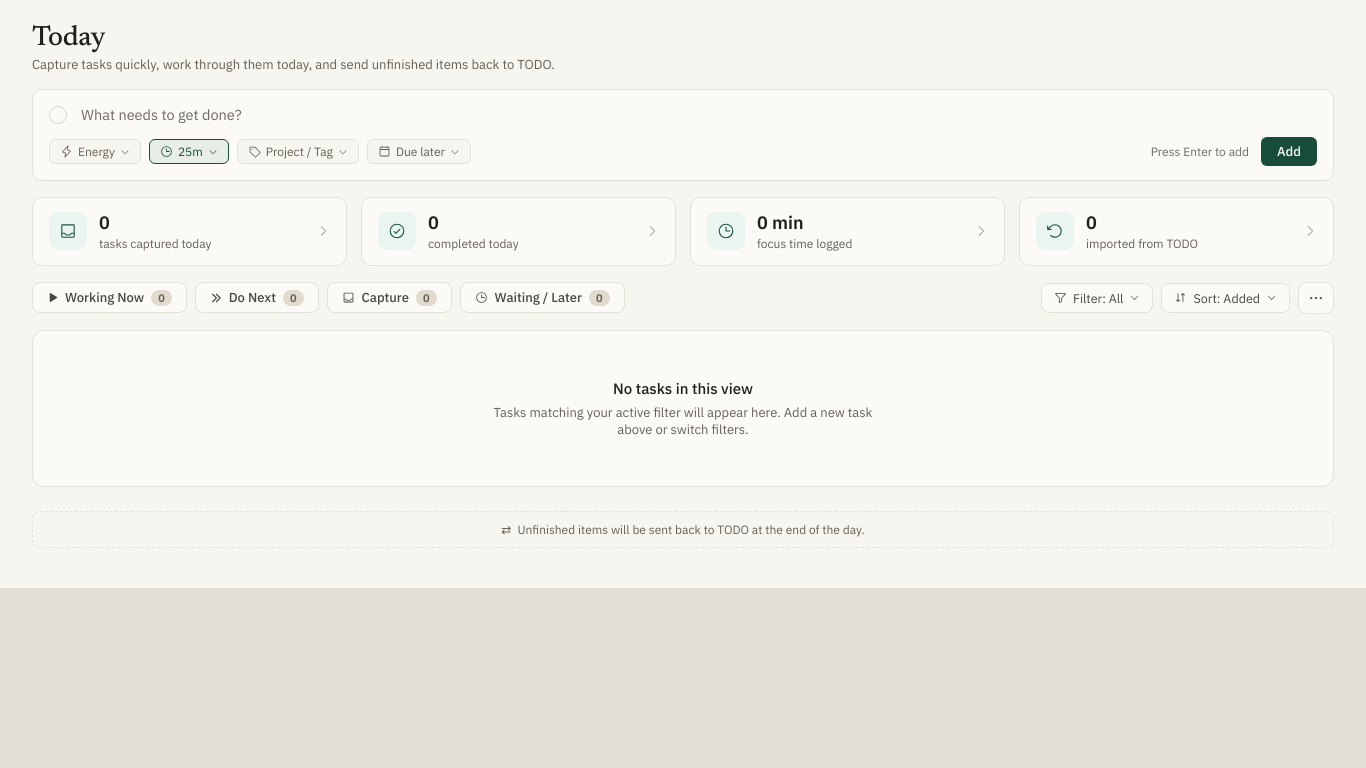
Test: InboxView render flows › allows quick capturing a new task and adds it to Do Next
The width and height of the screenshot is (1366, 768).
In the field with placeholder "What needs to get done?": (698, 114) [79,104,1317,125], type "Write weekly newsletter"
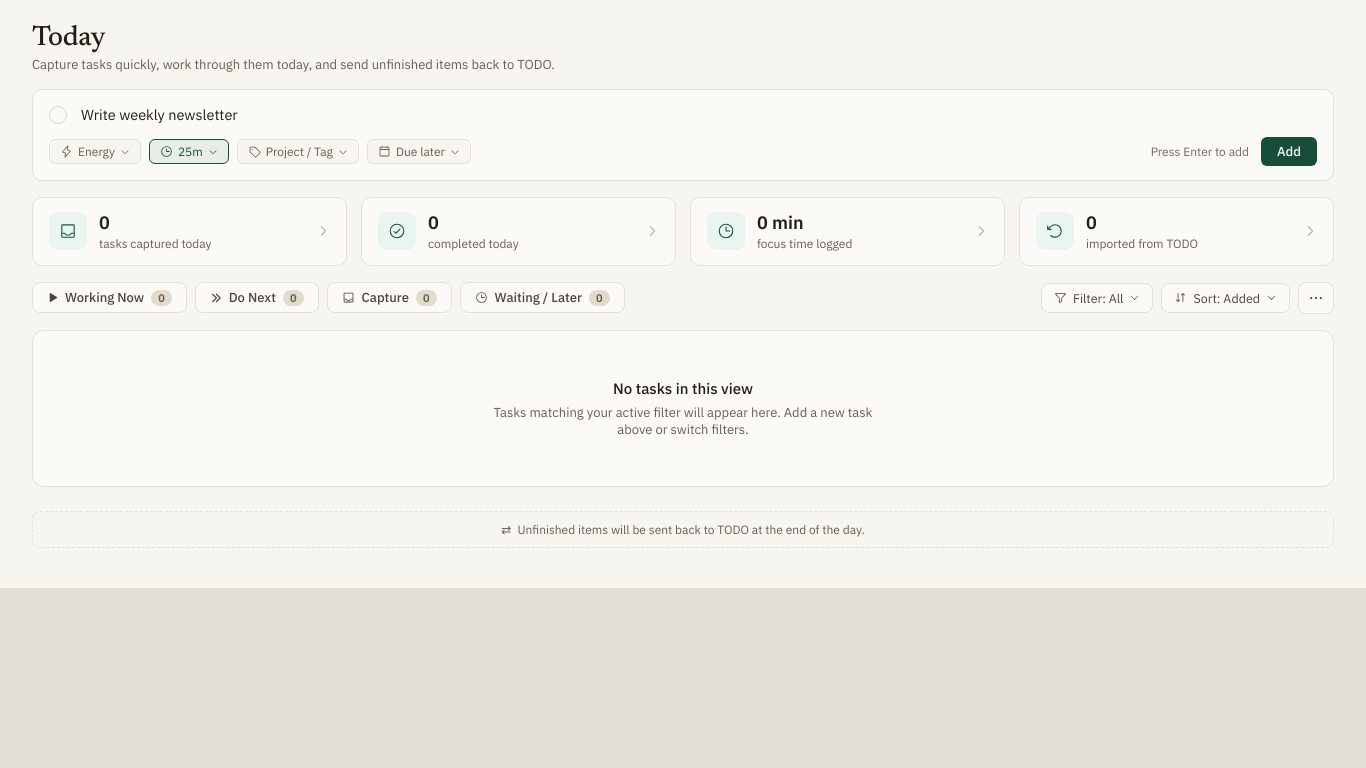
Click the button "Add": click(1289, 152) [1261,137,1317,166]
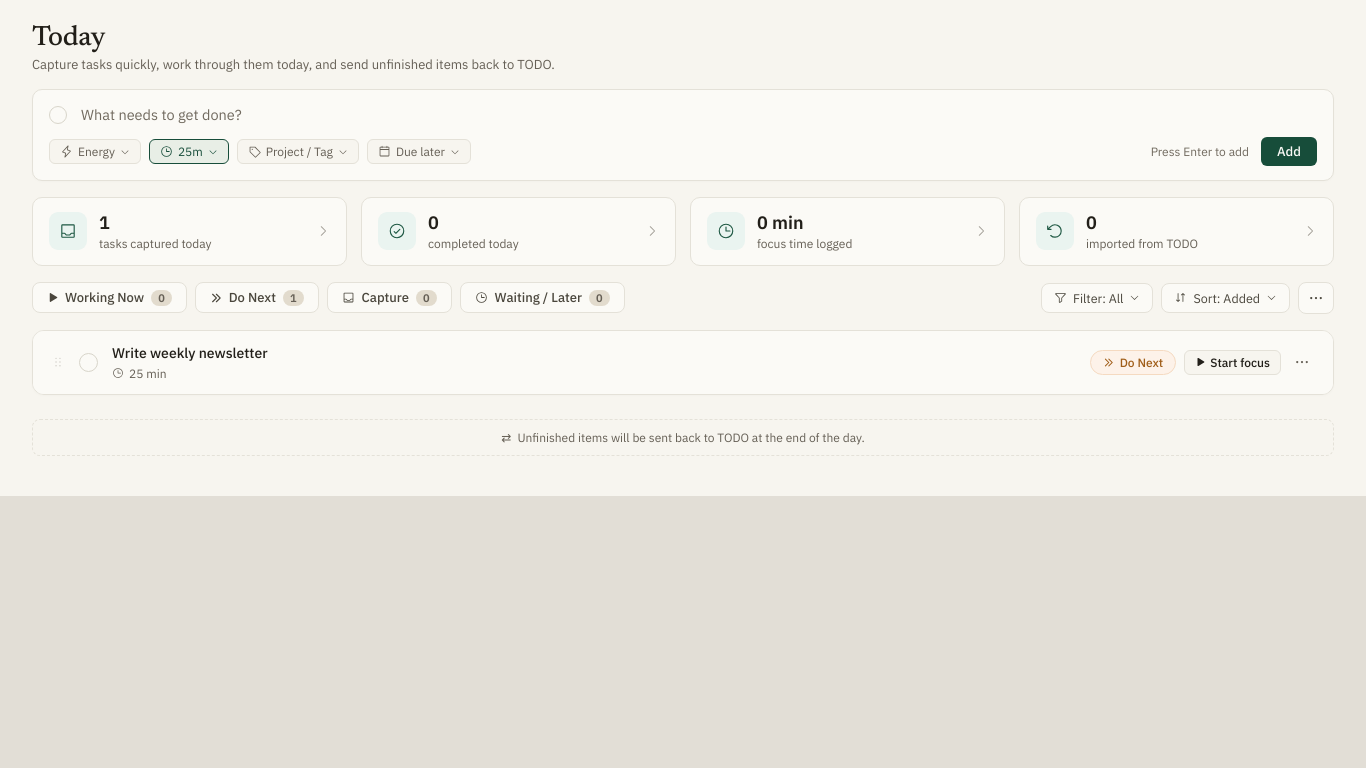
expect the text "Write weekly newsletter" is shown: met, box [112,344,268,362]
